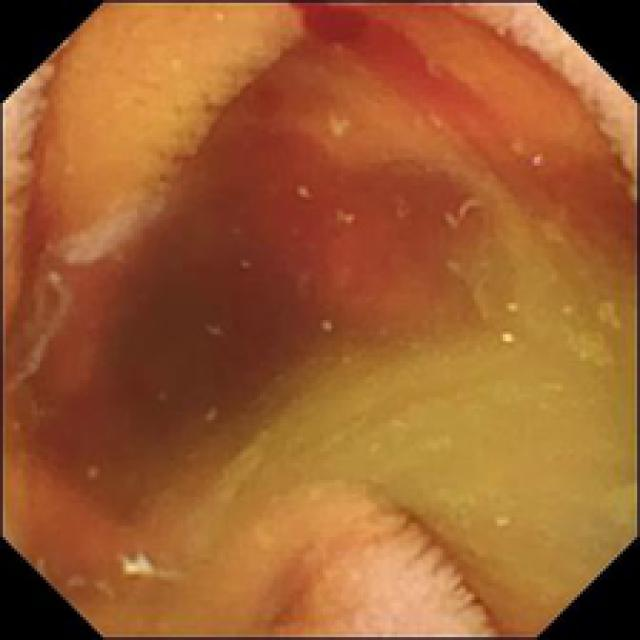bleeding: (190, 0, 640, 334), (5, 56, 183, 553), (402, 509, 506, 640), (262, 544, 336, 638)
